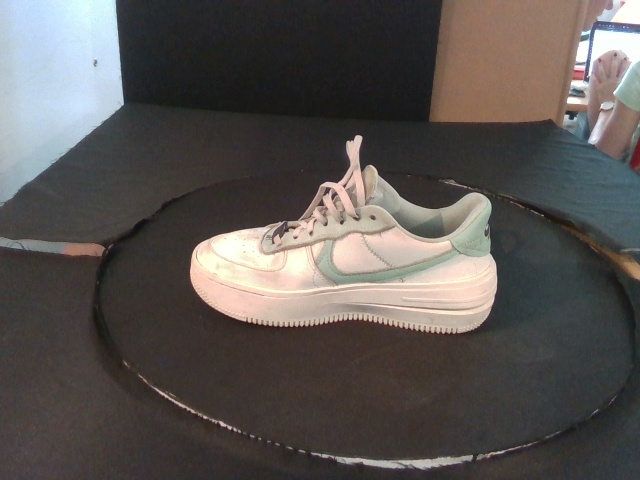shoe: (188, 164, 499, 335)
